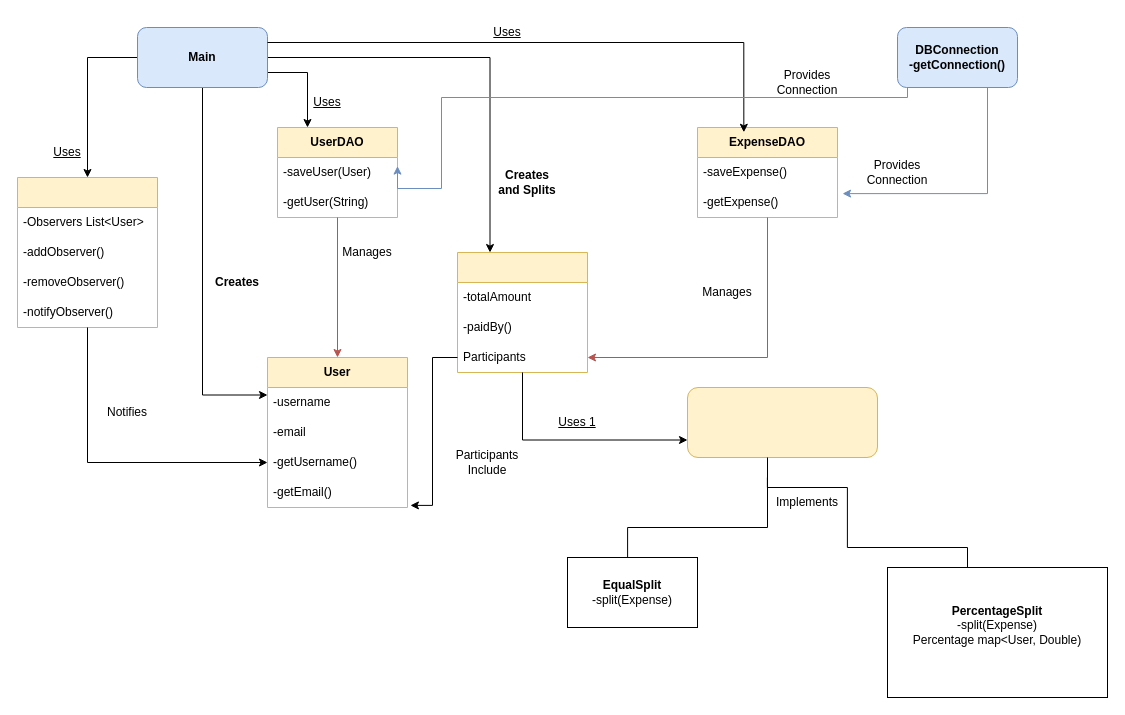
The diagram is 1125 pixels wide and 715 high, and some of its shapes have lost their labels. Each missing label, with the box of its shape:
Expense: (456, 252, 588, 372)
ExpenseSplitStateStrategy: (686, 386, 878, 458)
NotificationManager: (16, 176, 158, 328)
